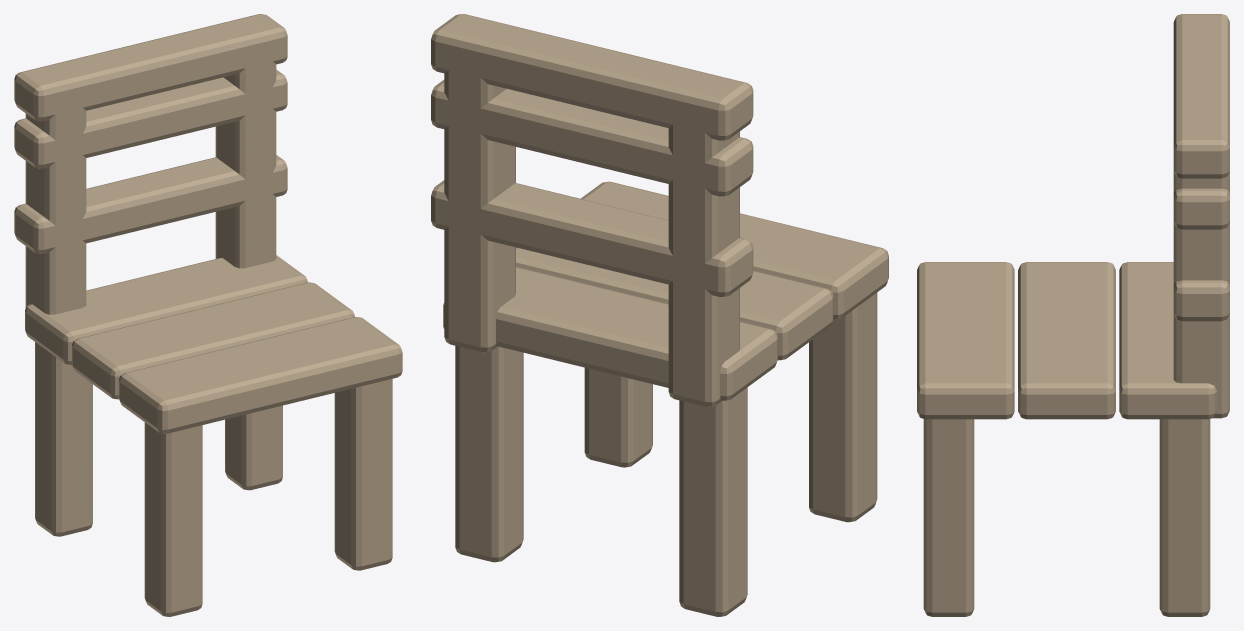
Rendered from chair-0-lod0.glb.
3 views of the same model, side by side, from view 1: azimuth 30°, elevation 25°; view 2: azimuth 150°, elevation 25°; view 3: azimuth 270°, elevation 25° (orthographic). The views are drawn at different scales.
Parts seen in each view (by area): view 1: Seat plank.002, Back rail.002, Seat plank.001, Seat plank, Back rail, Chair leg.001, Chair leg.003, Back rail.001, Chair leg, Back post, Back post.001, Chair leg.002; view 2: Back rail.002, Seat plank, Back post, Back post.001, Back rail, Chair leg, Chair leg.002, Chair leg.001, Back rail.001, Seat plank.002, Seat plank.001, Chair leg.003; view 3: Seat plank.001, Seat plank.002, Chair leg.002, Chair leg.003, Seat plank, Back rail.002, Back post.001, Back rail, Back rail.001.
Boxes of the visible parts, <box> form: Seat plank.002: <box>119,317,402,433</box>; Back rail.002: <box>14,14,287,121</box>; Seat plank.001: <box>72,282,354,399</box>; Seat plank: <box>25,255,307,364</box>; Back rail: <box>14,155,287,253</box>; Chair leg.001: <box>144,422,202,616</box>; Chair leg.003: <box>334,379,392,570</box>; Back rail.001: <box>14,69,287,168</box>; Chair leg: <box>35,342,92,536</box>; Back post: <box>25,95,86,314</box>; Back post.001: <box>215,49,276,268</box>; Chair leg.002: <box>225,405,282,490</box>; Back rail.002: <box>431,14,753,140</box>; Seat plank: <box>443,267,777,400</box>; Back post: <box>668,109,739,406</box>; Back post.001: <box>444,54,515,352</box>; Back rail: <box>431,180,753,296</box>; Chair leg: <box>679,387,747,616</box>; Chair leg.002: <box>455,346,523,562</box>; Chair leg.001: <box>809,292,877,522</box>; Back rail.001: <box>431,80,753,196</box>; Seat plank.002: <box>581,181,888,319</box>; Seat plank.001: <box>516,247,833,360</box>; Chair leg.003: <box>584,367,652,467</box>; Seat plank.001: <box>1018,262,1115,419</box>; Seat plank.002: <box>917,262,1014,419</box>; Chair leg.002: <box>1159,419,1210,616</box>; Chair leg.003: <box>923,419,974,616</box>; Seat plank: <box>1119,262,1216,419</box>; Back rail.002: <box>1173,14,1229,178</box>; Back post.001: <box>1173,171,1229,418</box>; Back rail: <box>1173,280,1229,321</box>; Back rail.001: <box>1173,188,1229,229</box>.
Bounding box in the file's own units: 0.56 × 0.9475 × 0.557.
